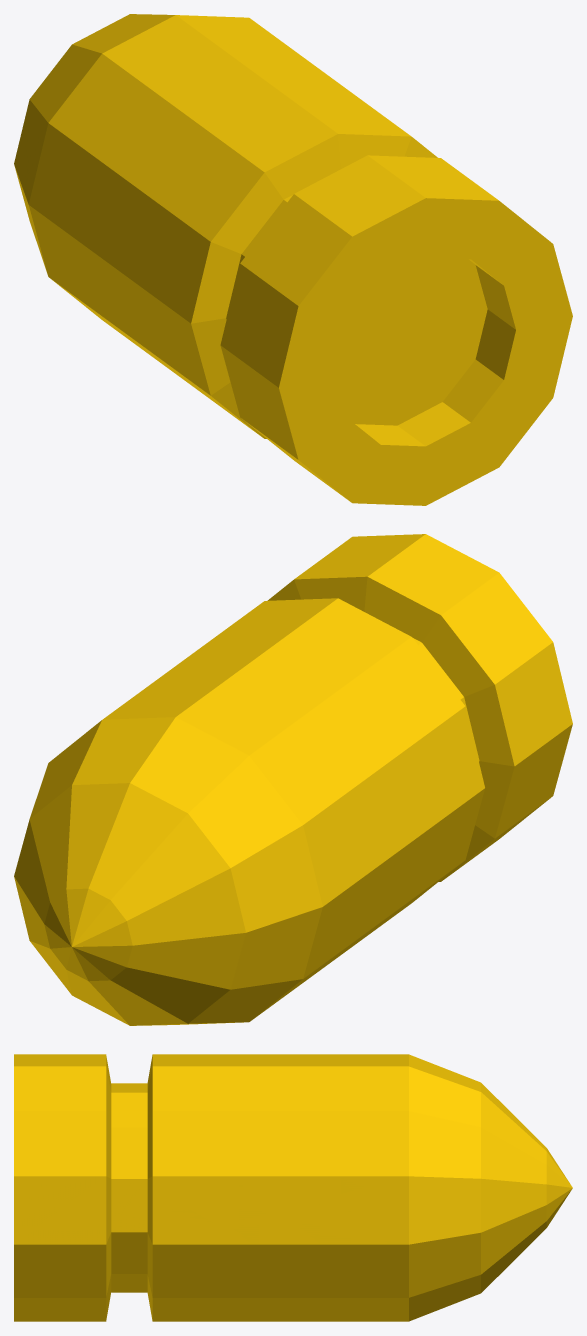
Rendered from 2bullet.glb.
3 renders of one model, top to bottom at view 1: azimuth 30°, elevation 25°; view 2: azimuth 150°, elevation 25°; view 3: azimuth 270°, elevation 25°, orthographic. The views are drawn at different scales.
Visible parts, largest first — view 1: Cylinder; view 2: Cylinder; view 3: Cylinder.
Boxes of the visible parts, x1,y1,x2,y2 form: Cylinder: [14, 14, 572, 505]; Cylinder: [14, 534, 572, 1025]; Cylinder: [14, 1054, 572, 1321].
Bounding box in the file's own units: 0.8398 × 0.8398 × 1.75.
1 material, 1 textured.
